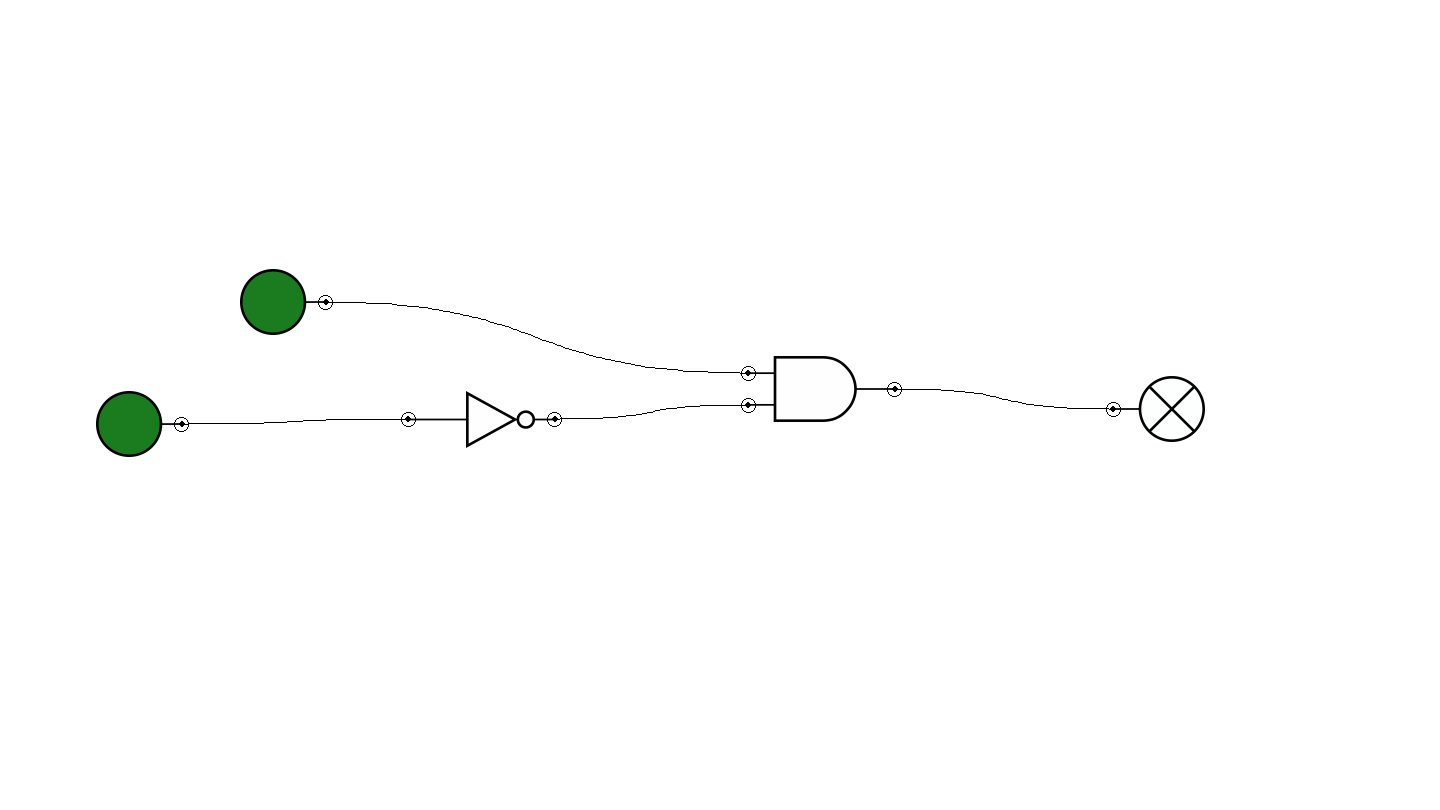and: (741, 356, 902, 422)
bulb: (1106, 376, 1205, 442)
not: (401, 391, 562, 448)
switch_True: (240, 269, 333, 335), (96, 391, 189, 457)
